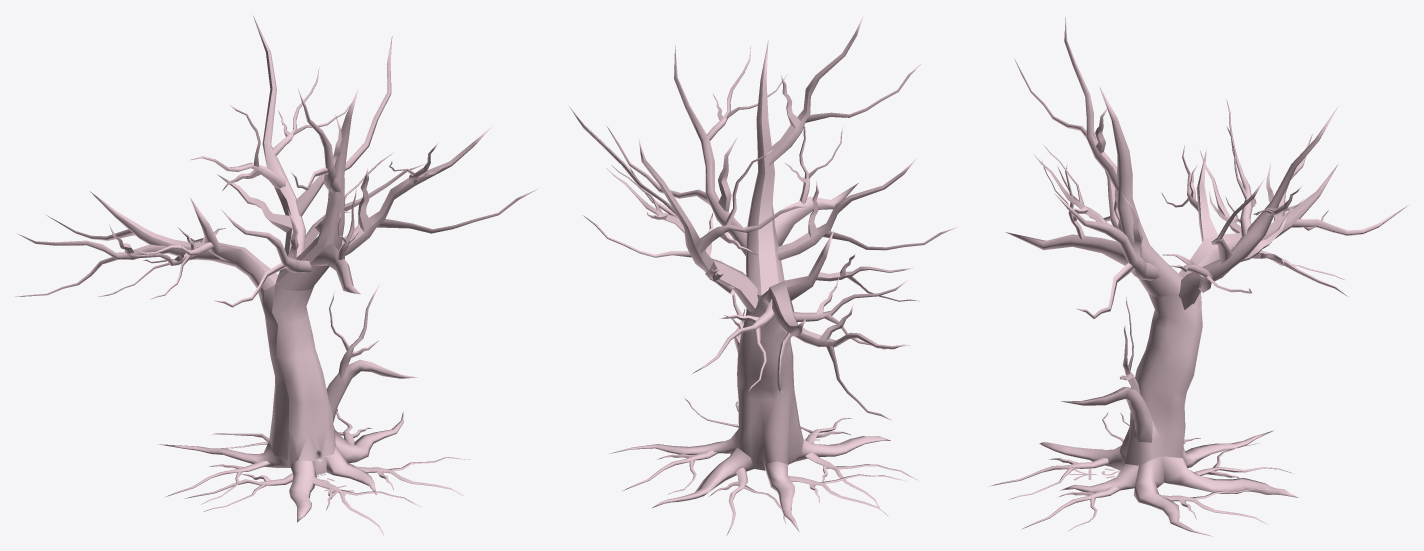
3 views of the same model, side by side, from view 1: azimuth 30°, elevation 25°; view 2: azimuth 150°, elevation 25°; view 3: azimuth 270°, elevation 25° (orthographic). The views are drawn at different scales.
Visible parts, largest first — view 1: Dark_Souls_3_Mesh__1; view 2: Dark_Souls_3_Mesh__1; view 3: Dark_Souls_3_Mesh__1.
Part boxes in pixels (left/top/right/bottom): Dark_Souls_3_Mesh__1: left=15, top=16, right=537, bottom=534; Dark_Souls_3_Mesh__1: left=568, top=15, right=956, bottom=535; Dark_Souls_3_Mesh__1: left=988, top=16, right=1408, bottom=536.
Size of the model in its own units: 23.31 by 23.67 by 20.24.
